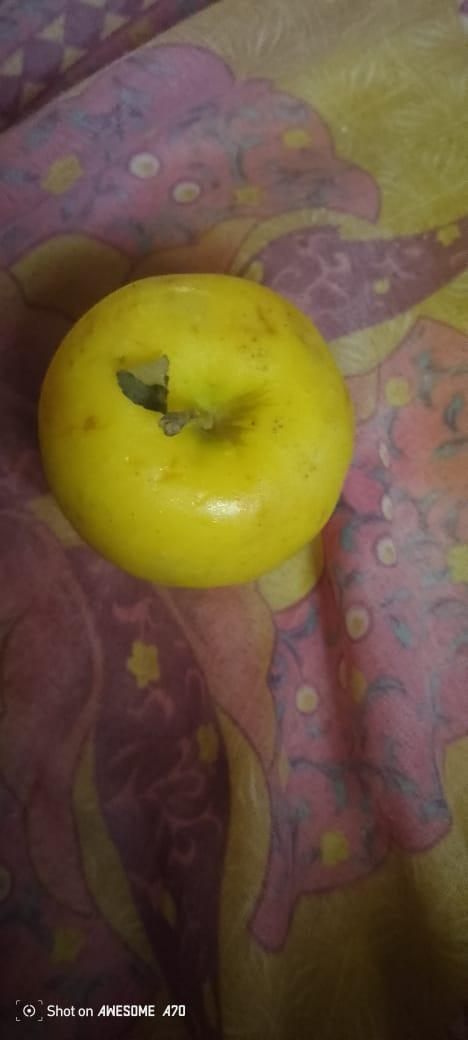non-mango: (30, 271, 353, 594)
